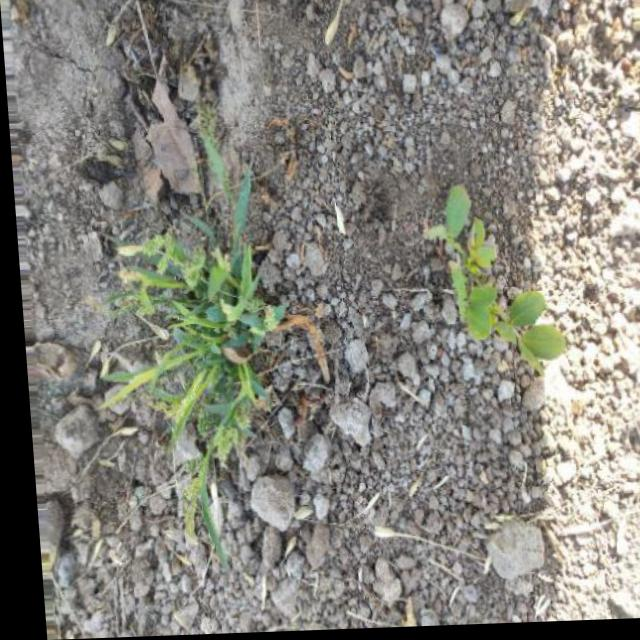weed: (72, 185, 309, 497), (400, 176, 582, 426)
